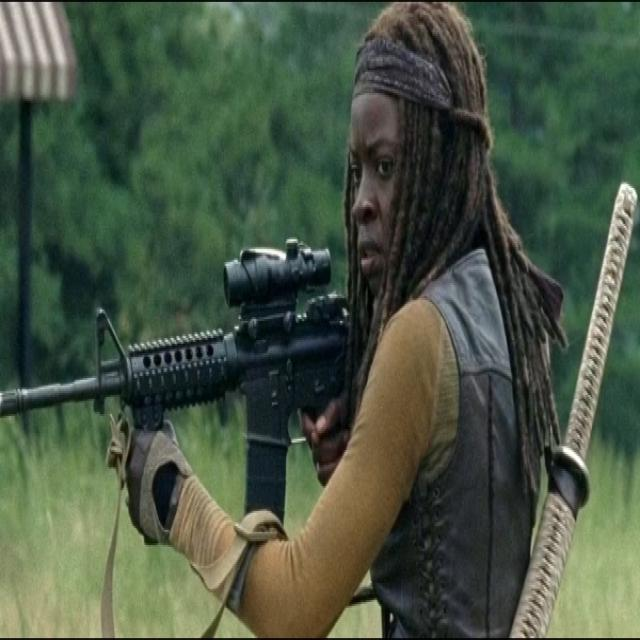rifle: (1, 236, 343, 532)
